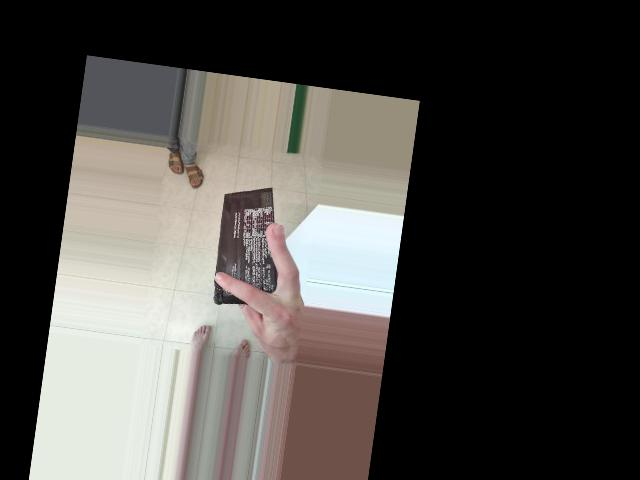chocolate: (145, 192, 282, 285)
